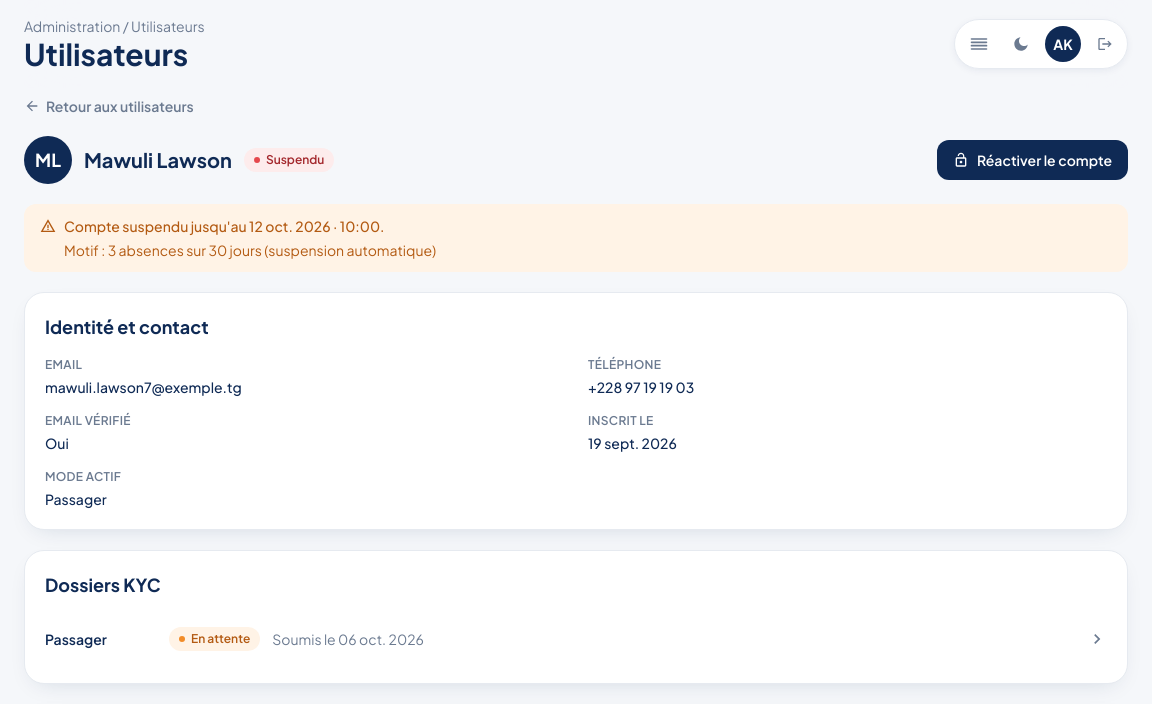
Test: fiche utilisateur › réactive un compte suspendu
The width and height of the screenshot is (1152, 704).
Expected: the text "Compte suspendu jusqu'au 12 oct. 2026 · 10:00." is shown, left=64, top=216, right=436, bottom=236
Click the button "Réactiver le compte".
click(1033, 160)  # box left=937, top=140, right=1128, bottom=180
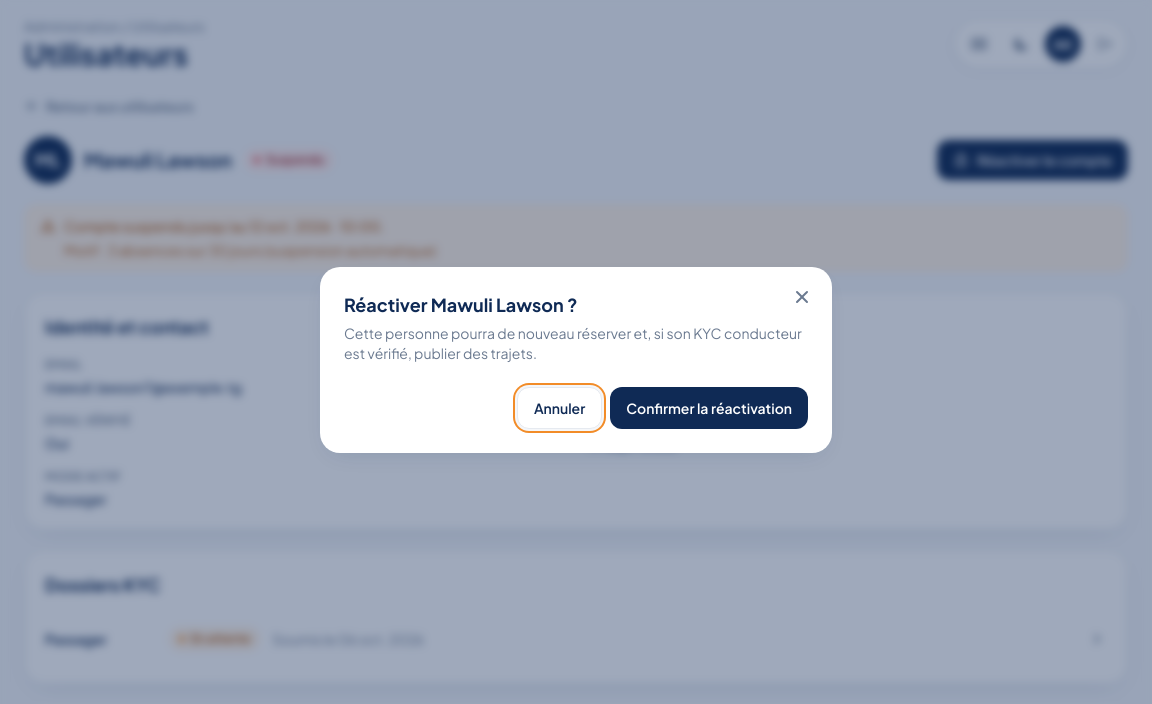
Click the button "Confirmer la réactivation".
click(709, 408)  # box left=610, top=387, right=808, bottom=429
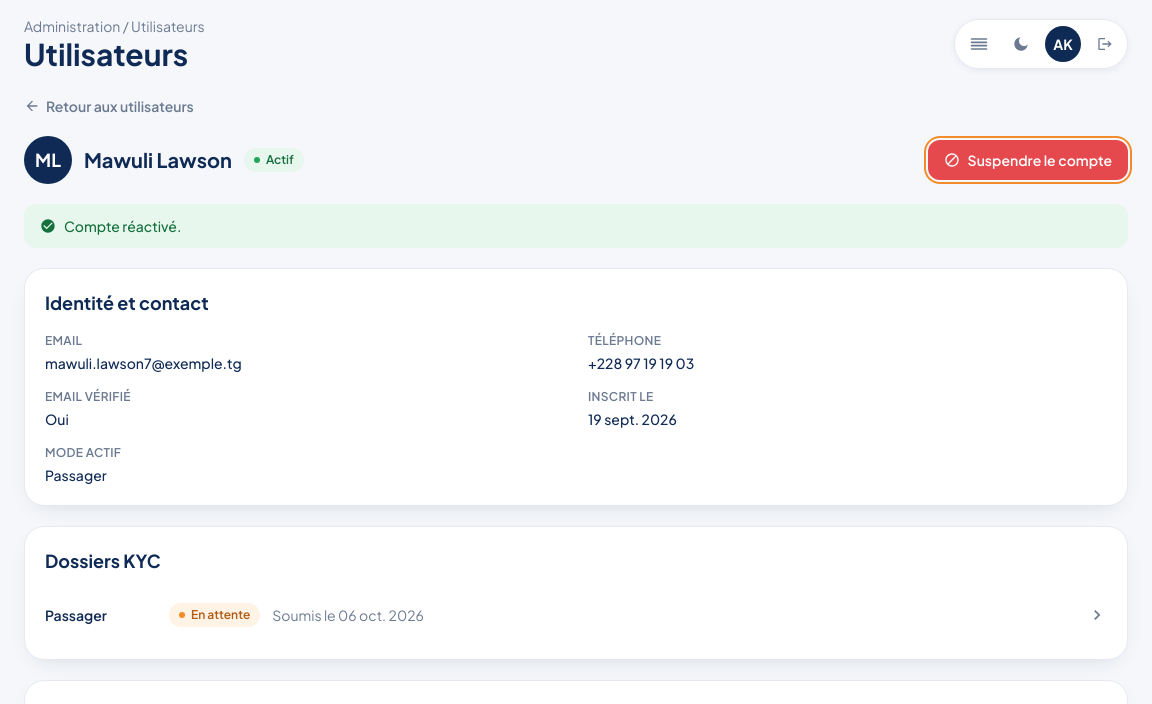
Expected: the text "Compte réactivé." is shown, left=64, top=216, right=181, bottom=236
Expected: the button "Suspendre le compte" is shown, left=928, top=140, right=1128, bottom=180
